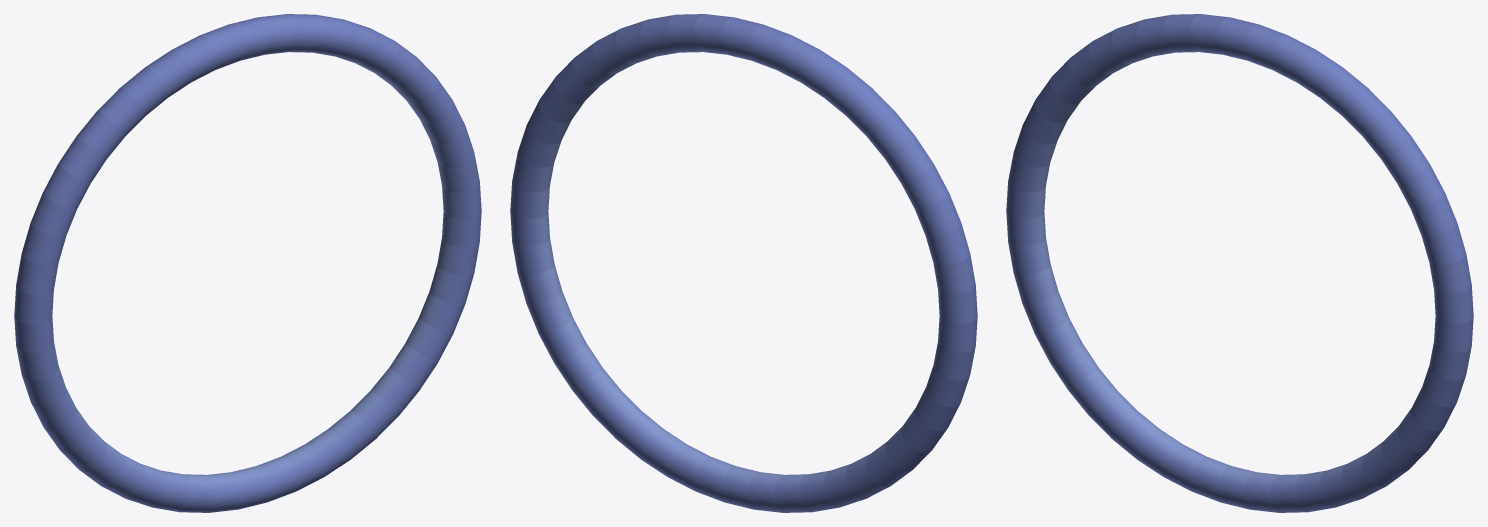
The picture shows the model from 3 angles, left to right: view 1: azimuth 30°, elevation 25°; view 2: azimuth 150°, elevation 25°; view 3: azimuth 330°, elevation 25°; orthographic projection.
Parts seen in each view (by area): view 1: world; view 2: world; view 3: world.
Boxes of the visible parts, x1,y1,x2,y2 form: world: [14, 14, 481, 512]; world: [510, 14, 977, 512]; world: [1006, 14, 1473, 512].
Size of the model in its own units: 28 by 27.94 by 2.
